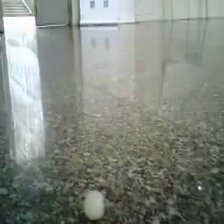w: (81, 189, 108, 221)
